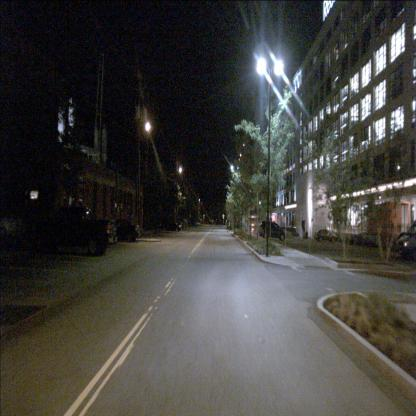vehicle-car: (106, 219, 140, 242), (397, 220, 416, 261), (259, 219, 287, 241), (314, 229, 337, 243), (161, 221, 182, 232)
vehicle-truck: (38, 204, 116, 256)
